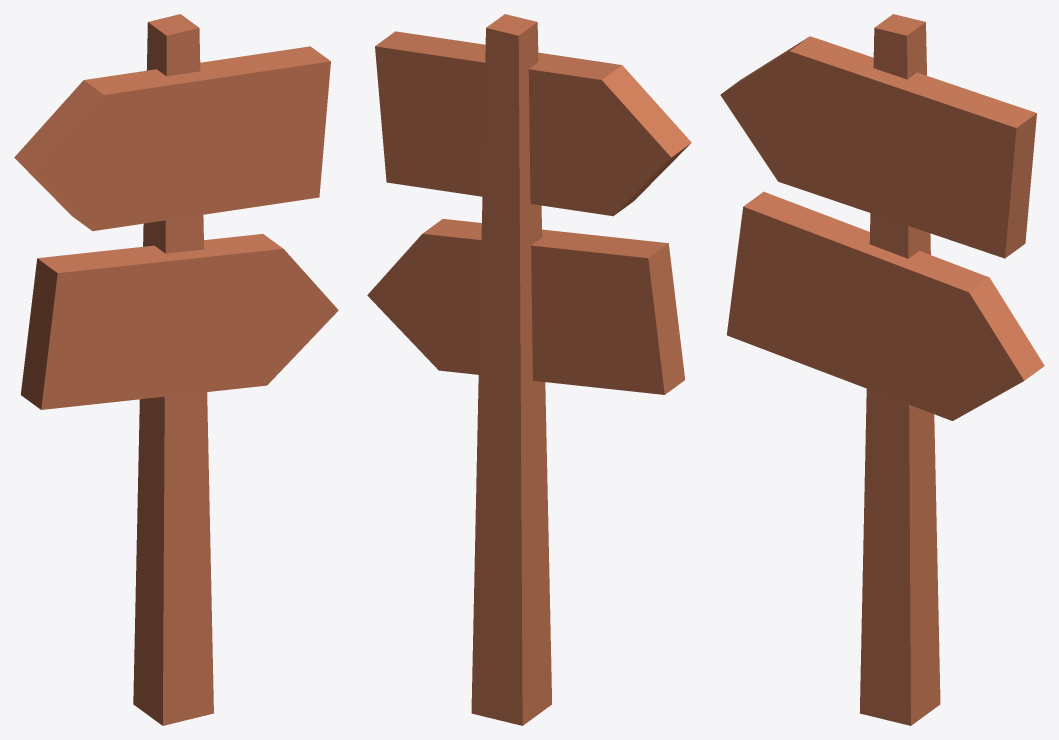
File: signpost.obj
3 views of the same model, side by side, from view 1: azimuth 30°, elevation 25°; view 2: azimuth 150°, elevation 25°; view 3: azimuth 330°, elevation 25° (orthographic).
Bounding box in the file's own units: 0.2141 × 0.4601 × 0.043.
